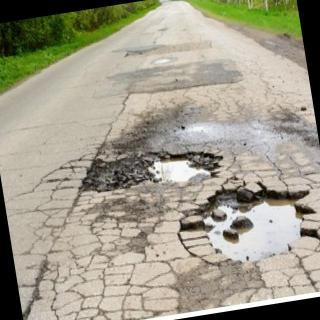pothole: (181, 185, 320, 265), (78, 151, 224, 193), (123, 48, 145, 57)
